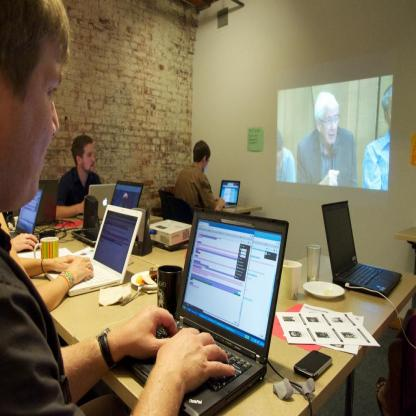board: (45, 205, 142, 297), (321, 201, 402, 297), (70, 180, 142, 246), (9, 186, 44, 240), (77, 184, 116, 218), (36, 180, 58, 224), (219, 180, 240, 206)
